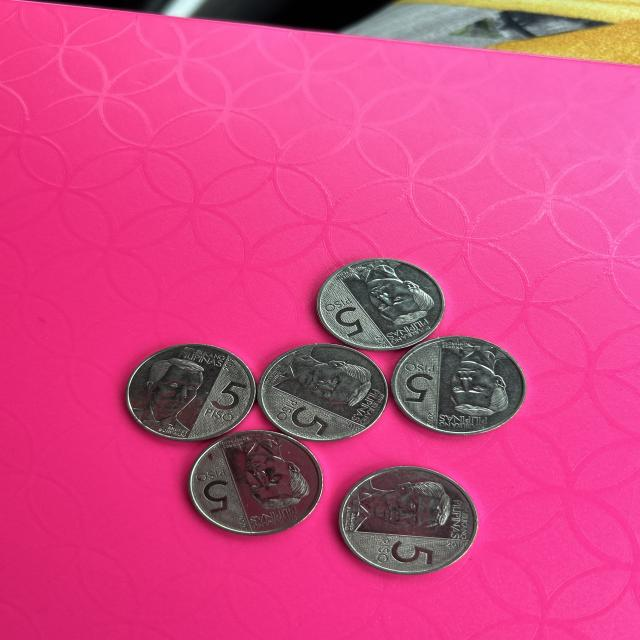5_New_Front: (267, 386, 343, 436), (322, 294, 378, 348), (367, 531, 437, 571), (192, 462, 240, 519), (205, 376, 247, 430), (401, 355, 437, 413)
